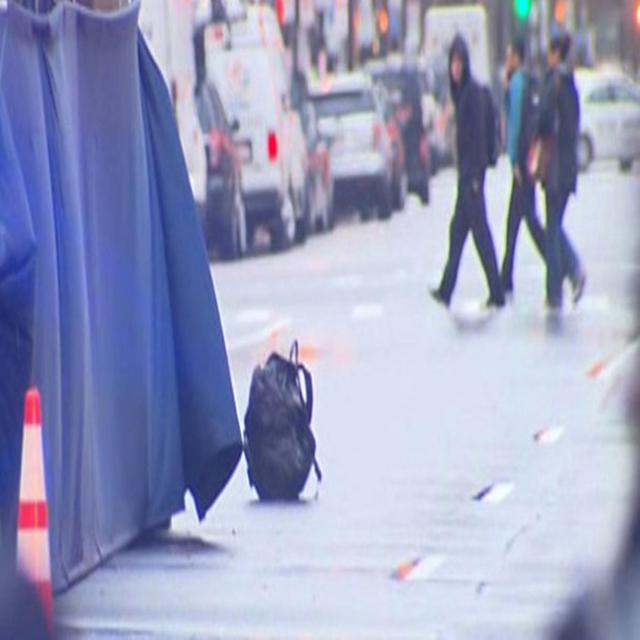Backpacks: (240, 336, 323, 502)
